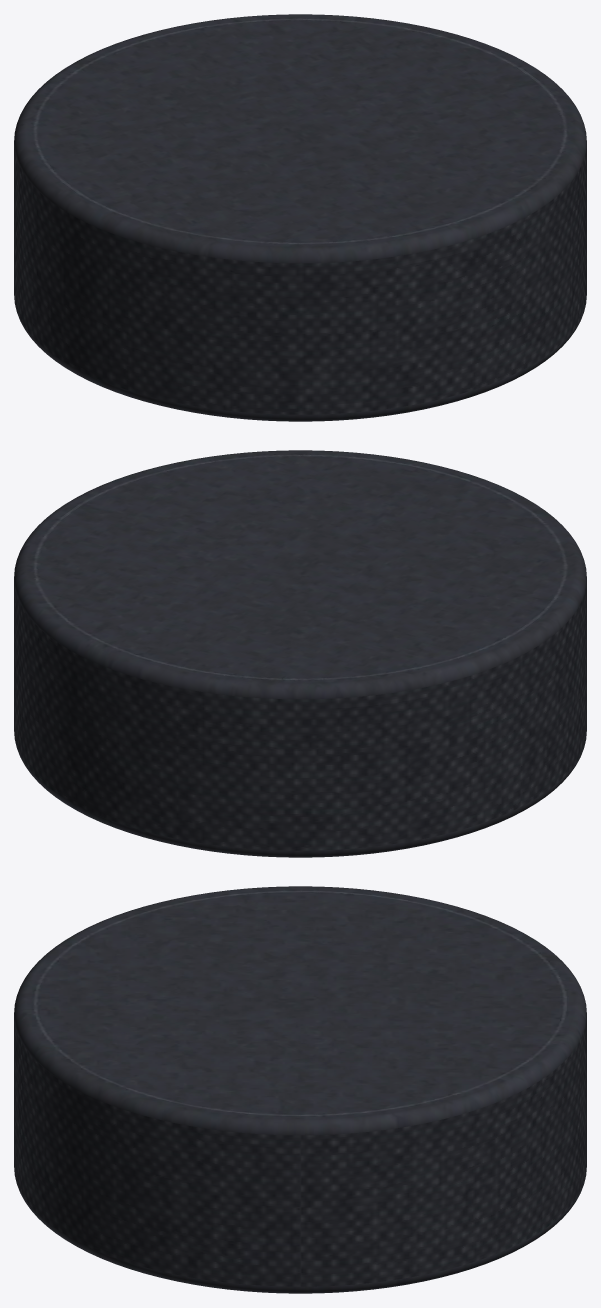
File: ball-ice-hockey-puck.glb
3 renders of one model, top to bottom at view 1: azimuth 30°, elevation 25°; view 2: azimuth 150°, elevation 25°; view 3: azimuth 270°, elevation 25°, orthographic.
Visible parts, largest first — view 1: Ball; view 2: Ball; view 3: Ball.
Part boxes in pixels (x1=…): Ball: x1=14, y1=14, x2=586, y2=421; Ball: x1=14, y1=450, x2=586, y2=857; Ball: x1=14, y1=886, x2=586, y2=1293.
Bounding box in the file's own units: 0.0762 × 0.0257 × 0.0762.
Materials: 2 (2 with a texture image).
